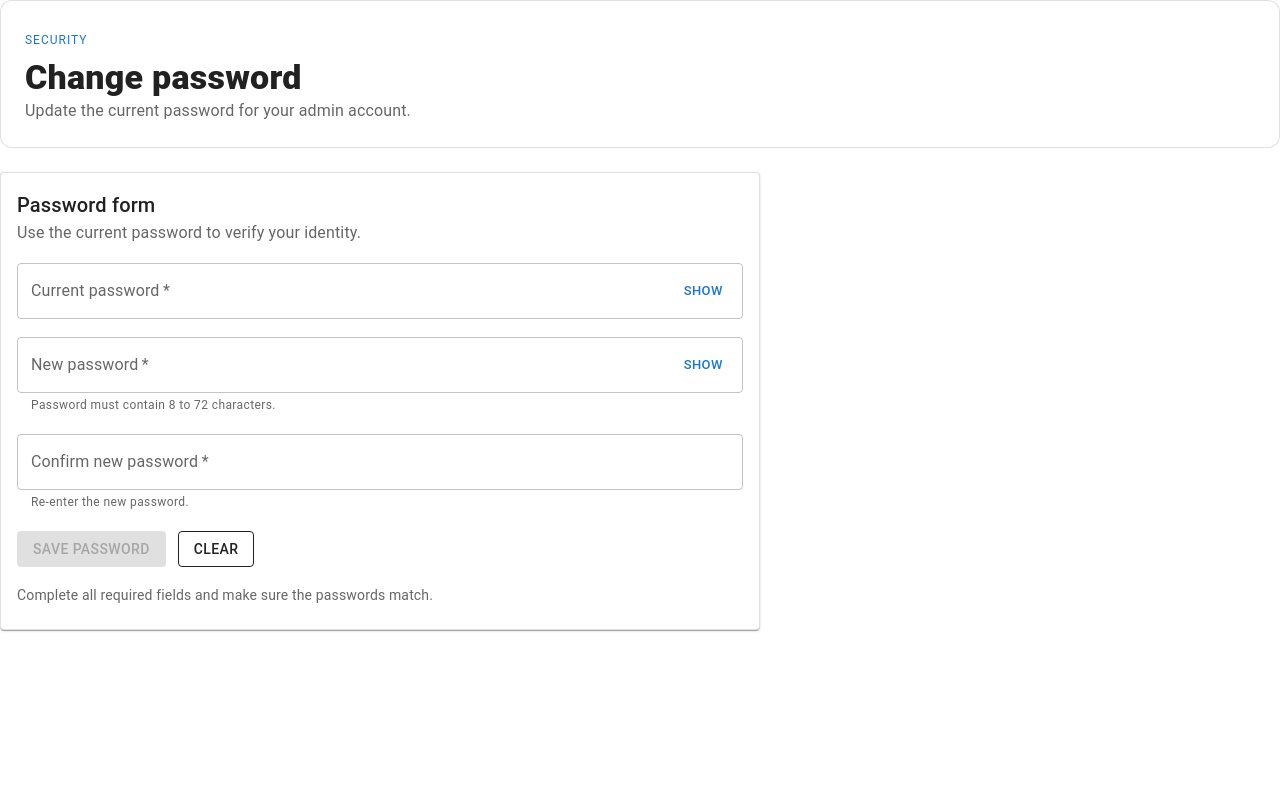
ChangePasswordPage › submits the password change form
Expected: the heading "Change password" is shown, [25, 57, 302, 97]
Type "OldPass123!" into the password field labelled "Current password *" at (347, 291), box [17, 263, 678, 319]
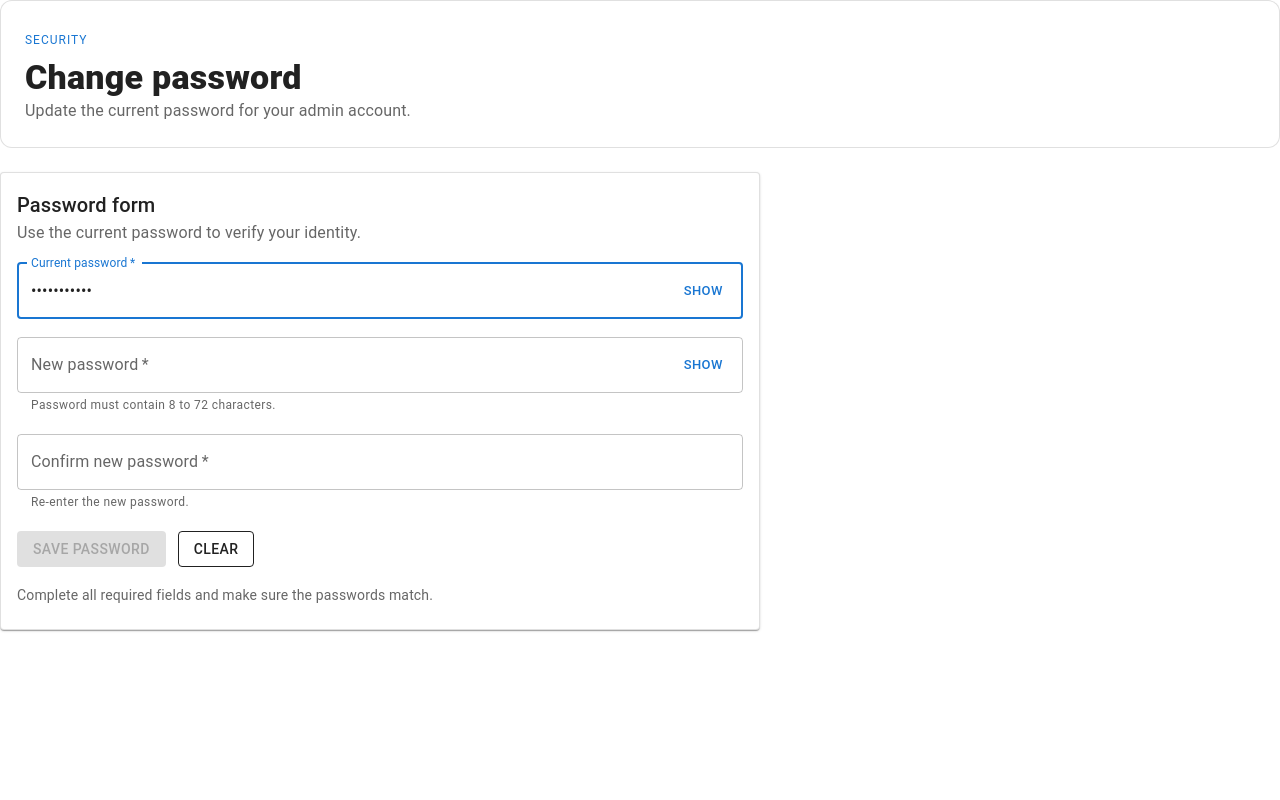
Type "NewPass123!" into the password field labelled "New password *" at (347, 365), box [17, 337, 678, 393]
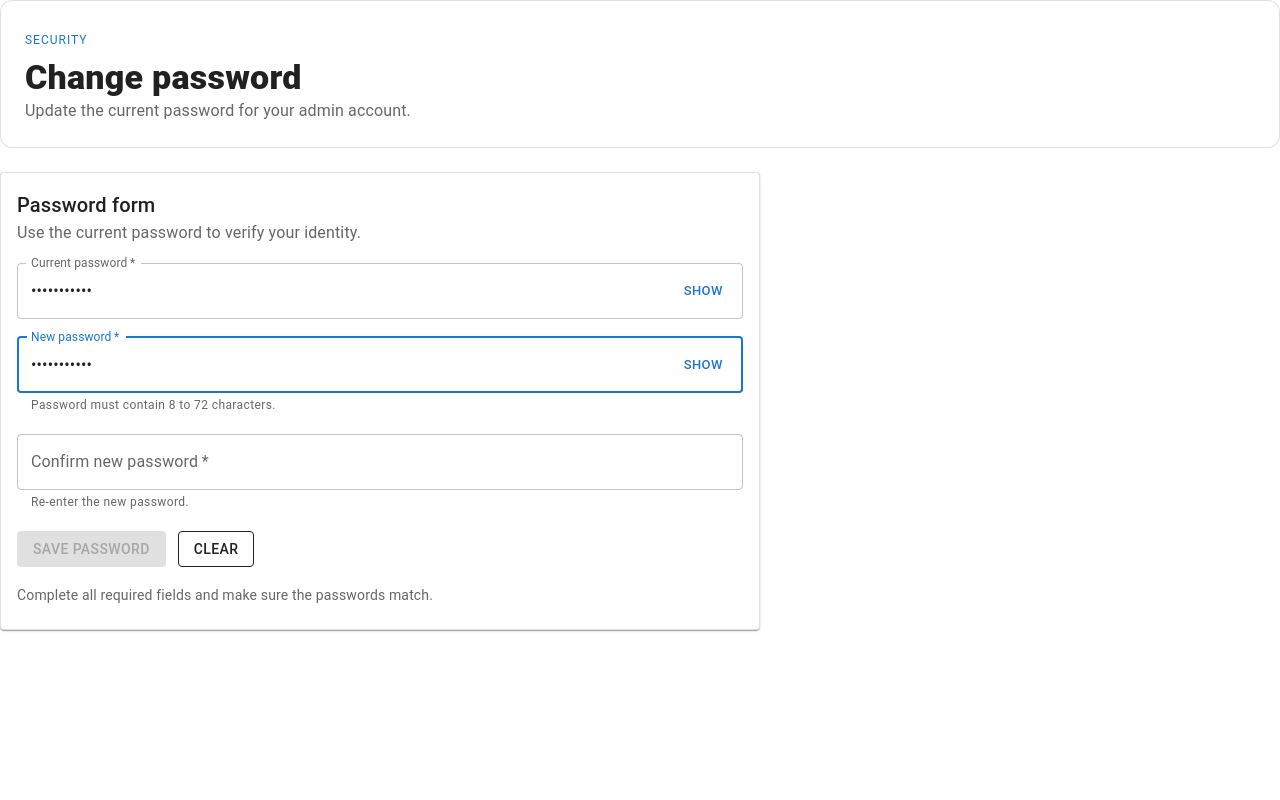
Type "NewPass123!" into the password field labelled "Confirm new password *" at (380, 462), box [17, 434, 743, 490]
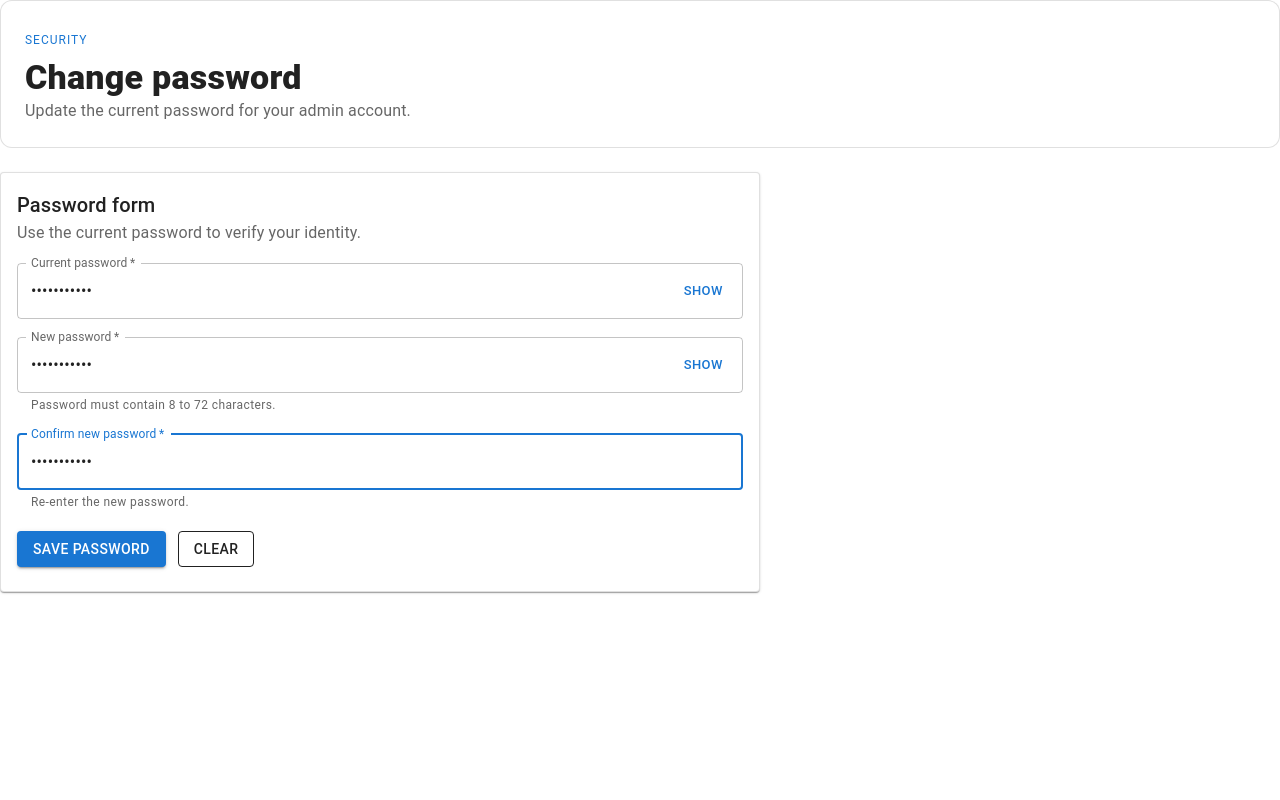
Click the button "Save password" at (91, 549), box [17, 531, 166, 567]
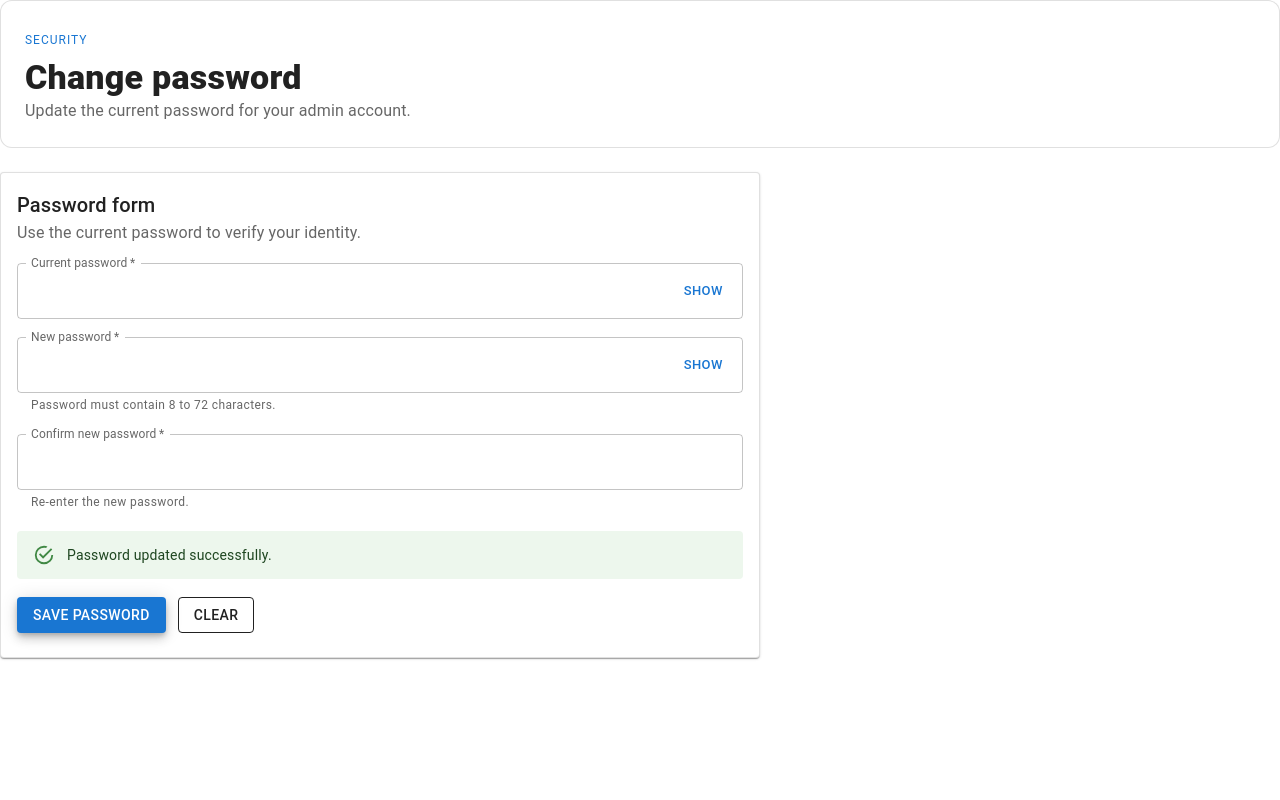
Result: the text "Password updated successfully." is shown at [67, 547, 272, 563]
